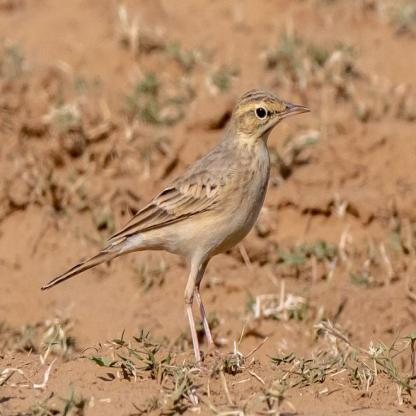Burung: (42, 91, 312, 359)
